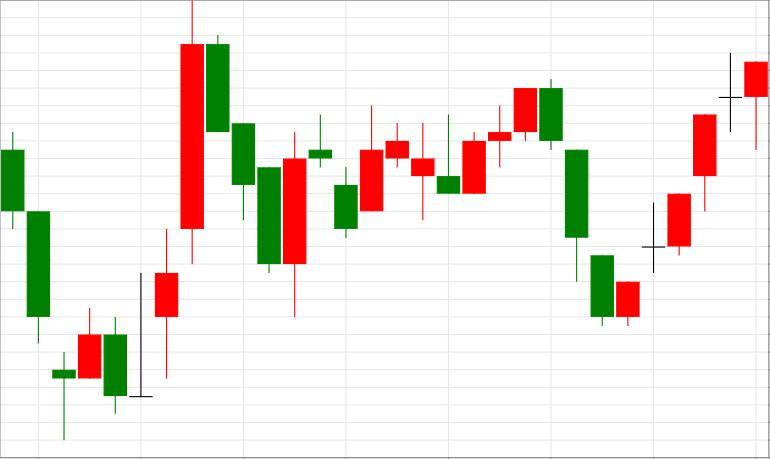bearish_engulfing_fall: (437, 79, 562, 194)
bullish_engulfing_rise: (206, 34, 306, 317)
three_black_crows_fall: (436, 79, 614, 326)
